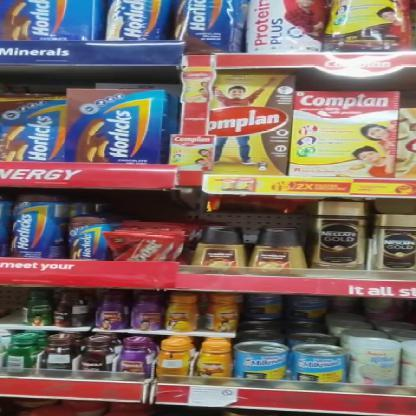Complan Kesar Badam: (292, 92, 392, 178)
Complan Royal Chocolate: (214, 72, 292, 173)
